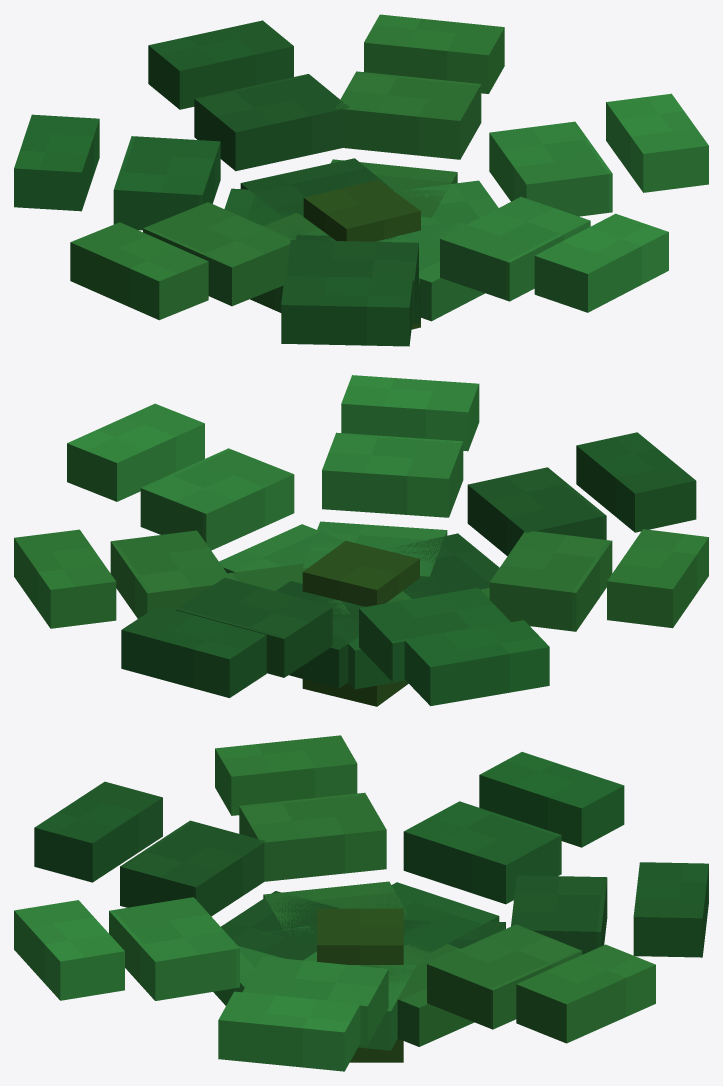
The model's file is fern_2.glb.
3 views of the same model, one above another, from view 1: azimuth 30°, elevation 25°; view 2: azimuth 150°, elevation 25°; view 3: azimuth 270°, elevation 25° (orthographic).
Parts seen in each view (by area): view 1: Plant; view 2: Plant; view 3: Plant.
Part boxes in pixels (x1,y1,x2,y2): Plant: (14, 14, 708, 346); Plant: (14, 375, 708, 706); Plant: (14, 735, 708, 1071).
Bounding box in the file's own units: 0.8129 × 0.205 × 0.8036.
13 materials, 13 textured.
